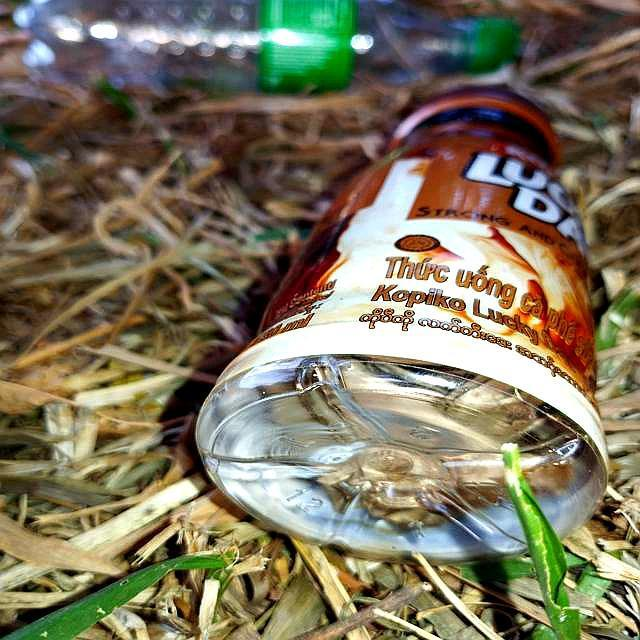Non-biodegradable: (193, 85, 612, 565)
